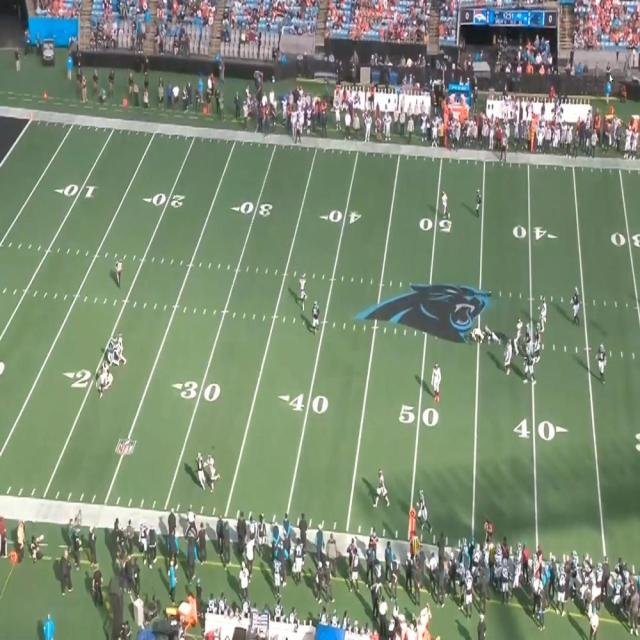db: (206, 455, 215, 493), (101, 361, 111, 395), (117, 330, 127, 361), (378, 470, 385, 502), (300, 274, 306, 305)
lb: (431, 360, 441, 402), (441, 188, 449, 225)
qb: (597, 344, 606, 382)
skill: (193, 452, 206, 490), (418, 486, 426, 524), (311, 302, 318, 336), (477, 187, 484, 217), (109, 339, 115, 368)
